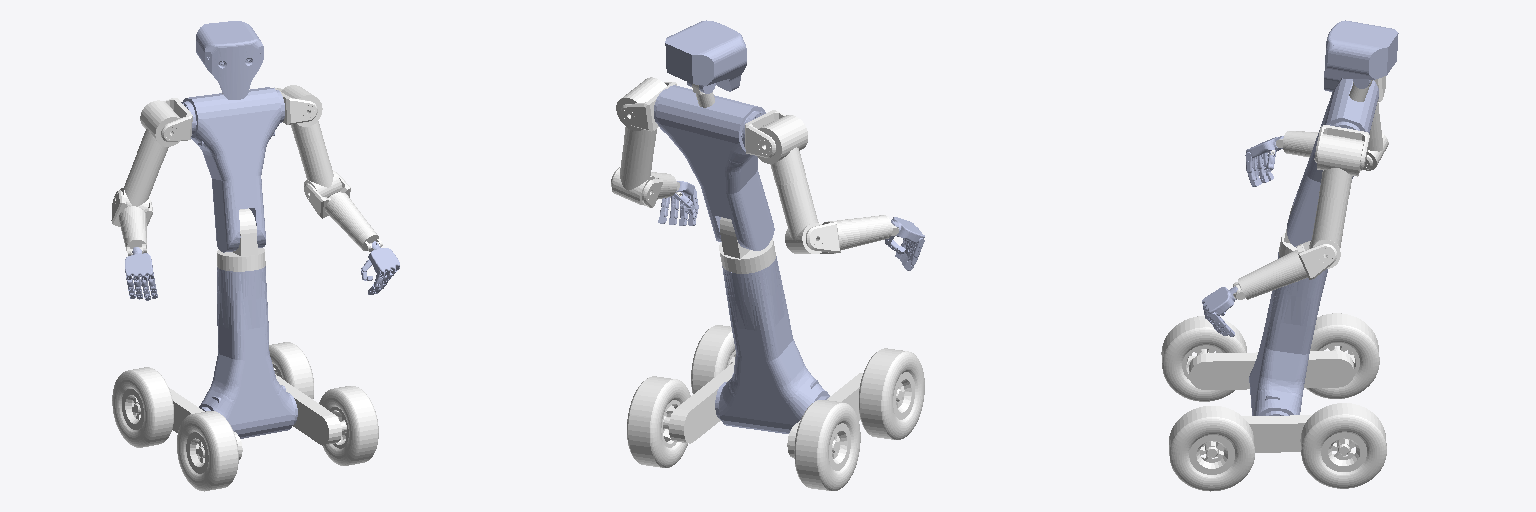
--- Facts derived from the render (not from the file) ---
3 views of the same robot in one strip: view 1: azimuth 30°, elevation 25°; view 2: azimuth 150°, elevation 25°; view 3: azimuth 270°, elevation 25° (orthographic).
Robot: rucobot — 61 links, 60 joints (60 continuous); root link base_link; default pose: every joint at zero.
Visible links, largest first — view 1: base_link, Tors, shassi_r, shassi_l, golova, Sharnir_pojasa, plecho_r, predplechie_l, lokot_l, lokot_r, plecho_l, predplechie_r (+5 smaller); view 2: base_link, shassi_r, Tors, shassi_l, golova, plecho_r, lokot_r, lokot_l, Sharnir_pojasa, predplechie_r, plecho_l, sharnir_plecha_r (+2 smaller); view 3: shassi_l, shassi_r, base_link, golova, Tors, plecho_l, predplechie_l, lokot_l, sharnir_loktya_l, predplechie_r, sharnir_plecha_l, lokot_r (+1 smaller).
Boxes of the visible links, bbox=[...] form: base_link: bbox=[199, 266, 297, 438]; Tors: bbox=[181, 87, 284, 252]; shassi_r: bbox=[112, 367, 242, 491]; shassi_l: bbox=[269, 342, 378, 465]; golova: bbox=[196, 21, 263, 99]; Sharnir_pojasa: bbox=[217, 208, 265, 271]; plecho_r: bbox=[137, 100, 180, 163]; predplechie_l: bbox=[325, 193, 382, 250]; lokot_l: bbox=[297, 138, 342, 197]; lokot_r: bbox=[120, 154, 161, 209]; plecho_l: bbox=[281, 85, 322, 145]; predplechie_r: bbox=[119, 206, 146, 255]; base_link: bbox=[715, 256, 829, 433]; shassi_r: bbox=[787, 348, 924, 490]; Tors: bbox=[654, 85, 774, 250]; shassi_l: bbox=[627, 325, 735, 467]; golova: bbox=[665, 20, 746, 93]; plecho_r: bbox=[757, 115, 807, 184]; lokot_r: bbox=[776, 178, 821, 253]; lokot_l: bbox=[612, 138, 654, 204]; Sharnir_pojasa: bbox=[719, 217, 775, 273]; predplechie_r: bbox=[822, 215, 898, 250]; plecho_l: bbox=[616, 77, 666, 147]; sharnir_plecha_r: bbox=[745, 110, 785, 157]; shassi_l: bbox=[1169, 403, 1386, 491]; shassi_r: bbox=[1161, 313, 1379, 401]; base_link: bbox=[1249, 252, 1327, 415]; golova: bbox=[1324, 20, 1398, 91]; Tors: bbox=[1287, 78, 1378, 247]; plecho_l: bbox=[1317, 134, 1364, 198]; predplechie_l: bbox=[1233, 250, 1307, 299]; lokot_l: bbox=[1309, 193, 1348, 268]; sharnir_loktya_l: bbox=[1296, 241, 1336, 279]; predplechie_r: bbox=[1276, 131, 1318, 157]; sharnir_plecha_l: bbox=[1314, 125, 1369, 169]; lokot_r: bbox=[1366, 110, 1388, 170].
Size in the robot's own frame: 0.9582 by 0.719 by 1.43 metres.
61 mesh visuals loaded from 61 distinct referenced files (61 binary STL).

The robot description file, URDF, robot "rucobot":
<robot
  name="rucobot">
  <link
    name="base_link">
    <inertial>
      <origin
        xyz="0.00896240562713546 0.143186728221046 -0.0666263036048991"
        rpy="0 0 0" />
      <mass
        value="110.693325289998" />
      <inertia
        ixx="3.27626628742202"
        ixy="-0.181122746313554"
        ixz="0.0522061358243045"
        iyy="0.80236382109001"
        iyz="0.514583322796761"
        izz="3.55269170853019" />
    </inertial>
    <visual>
      <origin
        xyz="0 0 0"
        rpy="0 0 0" />
      <geometry>
        <mesh
          filename="package://rucobot/meshes/base_link.STL" />
      </geometry>
      <material
        name="">
        <color
          rgba="0.792156862745098 0.819607843137255 0.933333333333333 1" />
      </material>
    </visual>
    <collision>
      <origin
        xyz="0 0 0"
        rpy="0 0 0" />
      <geometry>
        <mesh
          filename="package://rucobot/meshes/base_link.STL" />
      </geometry>
    </collision>
  </link>
  <link
    name="Sharnir_pojasa">
    <inertial>
      <origin
        xyz="-2.25514051876985E-17 0.0752881183526605 -4.16333634234434E-17"
        rpy="0 0 0" />
      <mass
        value="2.89543871345231" />
      <inertia
        ixx="0.0130020130921996"
        ixy="2.80537312130624E-18"
        ixz="-1.30104260698261E-18"
        iyy="0.00713817950157839"
        iyz="2.49366499671666E-18"
        izz="0.0112358733148645" />
    </inertial>
    <visual>
      <origin
        xyz="0 0 0"
        rpy="0 0 0" />
      <geometry>
        <mesh
          filename="package://rucobot/meshes/Sharnir_pojasa.STL" />
      </geometry>
      <material
        name="">
        <color
          rgba="1 1 1 1" />
      </material>
    </visual>
    <collision>
      <origin
        xyz="0 0 0"
        rpy="0 0 0" />
      <geometry>
        <mesh
          filename="package://rucobot/meshes/Sharnir_pojasa.STL" />
      </geometry>
    </collision>
  </link>
  <joint
    name="j_Sharnir_pojasa"
    type="continuous">
    <origin
      xyz="0.0324436639883371 0.12429534174066 0.460919751635306"
      rpy="1.38421395302276 0.0519209406376816 -0.118124034255159" />
    <parent
      link="base_link" />
    <child
      link="Sharnir_pojasa" />
    <axis
      xyz="0 1 0" />
  </joint>
  <link
    name="Tors">
    <inertial>
      <origin
        xyz="7.47907391487196E-07 0.255052816813798 -3.41754965509367E-05"
        rpy="0 0 0" />
      <mass
        value="91.0754857328118" />
      <inertia
        ixx="1.7390726190761"
        ixy="3.01102176554317E-06"
        ixz="-9.22264127997674E-07"
        iyy="0.642500384537508"
        iyz="0.000215463623916334"
        izz="2.11023263578958" />
    </inertial>
    <visual>
      <origin
        xyz="0 0 0"
        rpy="0 0 0" />
      <geometry>
        <mesh
          filename="package://rucobot/meshes/Tors.STL" />
      </geometry>
      <material
        name="">
        <color
          rgba="0.792156862745098 0.819607843137255 0.933333333333333 1" />
      </material>
    </visual>
    <collision>
      <origin
        xyz="0 0 0"
        rpy="0 0 0" />
      <geometry>
        <mesh
          filename="package://rucobot/meshes/Tors.STL" />
      </geometry>
    </collision>
  </link>
  <joint
    name="j_Tors"
    type="continuous">
    <origin
      xyz="0 0.128188778698563 0"
      rpy="-0.128015279653219 1.62370117351429E-15 1.72431513512095E-15" />
    <parent
      link="Sharnir_pojasa" />
    <child
      link="Tors" />
    <axis
      xyz="1 0 0" />
  </joint>
  <link
    name="sharnir_plecha_r">
    <inertial>
      <origin
        xyz="-5.55111512312578E-17 -0.000417919871589234 0.0464830429041732"
        rpy="0 0 0" />
      <mass
        value="0.483647848803237" />
      <inertia
        ixx="0.000689027325543671"
        ixy="3.14079816841895E-18"
        ixz="-8.40256683676266E-19"
        iyy="0.00196973024679347"
        iyz="5.56154264020343E-05"
        izz="0.00183169819086114" />
    </inertial>
    <visual>
      <origin
        xyz="0 0 0"
        rpy="0 0 0" />
      <geometry>
        <mesh
          filename="package://rucobot/meshes/sharnir_plecha_r.STL" />
      </geometry>
      <material
        name="">
        <color
          rgba="1 1 1 1" />
      </material>
    </visual>
    <collision>
      <origin
        xyz="0 0 0"
        rpy="0 0 0" />
      <geometry>
        <mesh
          filename="package://rucobot/meshes/sharnir_plecha_r.STL" />
      </geometry>
    </collision>
  </link>
  <joint
    name="j_sharnir_plecha_r"
    type="continuous">
    <origin
      xyz="-0.152559658277971 0.390000000000005 0"
      rpy="1.5707963267949 -1.20891824044153 -1.5707963267949" />
    <parent
      link="Tors" />
    <child
      link="sharnir_plecha_r" />
    <axis
      xyz="0 0 -1" />
  </joint>
  <link
    name="plecho_r">
    <inertial>
      <origin
        xyz="-3.57087203139983E-08 -0.0251544798237647 5.104894745811E-08"
        rpy="0 0 0" />
      <mass
        value="2.34279641012503" />
      <inertia
        ixx="0.0078816597365252"
        ixy="-2.32104730132411E-09"
        ixz="-5.87356074909819E-10"
        iyy="0.00430171909143169"
        iyz="5.96776679538235E-09"
        izz="0.00692854772981026" />
    </inertial>
    <visual>
      <origin
        xyz="0 0 0"
        rpy="0 0 0" />
      <geometry>
        <mesh
          filename="package://rucobot/meshes/plecho_r.STL" />
      </geometry>
      <material
        name="">
        <color
          rgba="1 1 1 1" />
      </material>
    </visual>
    <collision>
      <origin
        xyz="0 0 0"
        rpy="0 0 0" />
      <geometry>
        <mesh
          filename="package://rucobot/meshes/plecho_r.STL" />
      </geometry>
    </collision>
  </link>
  <joint
    name="j_plecho_r"
    type="continuous">
    <origin
      xyz="0 -0.0079999999999999 0.0934403417220299"
      rpy="-1.57079632679491 1.25964358109242 -1.57079632679491" />
    <parent
      link="sharnir_plecha_r" />
    <child
      link="plecho_r" />
    <axis
      xyz="0 0 1" />
  </joint>
  <link
    name="lokot_r">
    <inertial>
      <origin
        xyz="-6.79035919437521E-08 -0.156514593189435 -1.94538884668027E-07"
        rpy="0 0 0" />
      <mass
        value="2.01481430087266" />
      <inertia
        ixx="0.00923322974059326"
        ixy="1.02896168592846E-08"
        ixz="7.84993727854545E-09"
        iyy="0.00229149406048785"
        iyz="2.4371602142312E-08"
        izz="0.009136443859641" />
    </inertial>
    <visual>
      <origin
        xyz="0 0 0"
        rpy="0 0 0" />
      <geometry>
        <mesh
          filename="package://rucobot/meshes/lokot_r.STL" />
      </geometry>
      <material
        name="">
        <color
          rgba="1 1 1 1" />
      </material>
    </visual>
    <collision>
      <origin
        xyz="0 0 0"
        rpy="0 0 0" />
      <geometry>
        <mesh
          filename="package://rucobot/meshes/lokot_r.STL" />
      </geometry>
    </collision>
  </link>
  <joint
    name="j_lokot_r"
    type="continuous">
    <origin
      xyz="0 -0.082274948812524 0"
      rpy="-4.72451924255783E-17 1.27265955777084 4.72451924255783E-17" />
    <parent
      link="plecho_r" />
    <child
      link="lokot_r" />
    <axis
      xyz="0 1 0" />
  </joint>
  <link
    name="sharnir_loktya_r">
    <inertial>
      <origin
        xyz="0.0012000000000002 0.00752035460033429 -0.0437637690424815"
        rpy="0 0 0" />
      <mass
        value="0.413649568915566" />
      <inertia
        ixx="0.000609935633827668"
        ixy="9.3173624197973E-19"
        ixz="3.52365706057789E-19"
        iyy="0.0012155913352192"
        iyz="5.49949777303547E-05"
        izz="0.00106159012481743" />
    </inertial>
    <visual>
      <origin
        xyz="0 0 0"
        rpy="0 0 0" />
      <geometry>
        <mesh
          filename="package://rucobot/meshes/sharnir_loktya_r.STL" />
      </geometry>
      <material
        name="">
        <color
          rgba="1 1 1 1" />
      </material>
    </visual>
    <collision>
      <origin
        xyz="0 0 0"
        rpy="0 0 0" />
      <geometry>
        <mesh
          filename="package://rucobot/meshes/sharnir_loktya_r.STL" />
      </geometry>
    </collision>
  </link>
  <joint
    name="j_sharnir_loktya_r"
    type="continuous">
    <origin
      xyz="0 -0.219725051187477 0"
      rpy="2.11707742464578 -1.57079630572147 1.18530245986557" />
    <parent
      link="lokot_r" />
    <child
      link="sharnir_loktya_r" />
    <axis
      xyz="1 0 0" />
  </joint>
  <link
    name="predplechie_r">
    <inertial>
      <origin
        xyz="-1.7798515558054E-06 -3.95550856513438E-08 0.0351725822698449"
        rpy="0 0 0" />
      <mass
        value="1.44692785130132" />
      <inertia
        ixx="0.00554237235769671"
        ixy="2.92450993731255E-09"
        ixz="3.43553871257052E-07"
        iyy="0.00555465523324006"
        iyz="-6.73221239377443E-09"
        izz="0.00121510080819449" />
    </inertial>
    <visual>
      <origin
        xyz="0 0 0"
        rpy="0 0 0" />
      <geometry>
        <mesh
          filename="package://rucobot/meshes/predplechie_r.STL" />
      </geometry>
      <material
        name="">
        <color
          rgba="1 1 1 1" />
      </material>
    </visual>
    <collision>
      <origin
        xyz="0 0 0"
        rpy="0 0 0" />
      <geometry>
        <mesh
          filename="package://rucobot/meshes/predplechie_r.STL" />
      </geometry>
    </collision>
  </link>
  <joint
    name="j_predplechie_r"
    type="continuous">
    <origin
      xyz="0.00119999999999998 0.00799999999999995 -0.133508449810852"
      rpy="3.14159265358979 -1.11022302462516E-15 -0.53391242034869" />
    <parent
      link="sharnir_loktya_r" />
    <child
      link="predplechie_r" />
    <axis
      xyz="0 0 1" />
  </joint>
  <link
    name="zapastie_r">
    <inertial>
      <origin
        xyz="-1.04664132916099E-09 -0.00589607999069064 -1.04964131830698E-09"
        rpy="0 0 0" />
      <mass
        value="0.0217508242970435" />
      <inertia
        ixx="4.06194784093122E-06"
        ixy="-2.45268871910205E-16"
        ixz="8.50053638797777E-14"
        iyy="3.36484861459115E-06"
        iyz="-3.8697037155607E-14"
        izz="2.22565604195955E-06" />
    </inertial>
    <visual>
      <origin
        xyz="0 0 0"
        rpy="0 0 0" />
      <geometry>
        <mesh
          filename="package://rucobot/meshes/zapastie_r.STL" />
      </geometry>
      <material
        name="">
        <color
          rgba="1 1 1 1" />
      </material>
    </visual>
    <collision>
      <origin
        xyz="0 0 0"
        rpy="0 0 0" />
      <geometry>
        <mesh
          filename="package://rucobot/meshes/zapastie_r.STL" />
      </geometry>
    </collision>
  </link>
  <joint
    name="j_zapastie_r"
    type="continuous">
    <origin
      xyz="0 0 0.156491550189148"
      rpy="-1.57079632679489 0.440819351327512 -1.57079632679489" />
    <parent
      link="predplechie_r" />
    <child
      link="zapastie_r" />
    <axis
      xyz="0 0 1" />
  </joint>
  <link
    name="ladon_r">
    <inertial>
      <origin
        xyz="-6.47388532412085E-05 0.0148875426551344 -0.0600543658421324"
        rpy="0 0 0" />
      <mass
        value="1.08106591463832" />
      <inertia
        ixx="0.000891133654287213"
        ixy="6.32719482747059E-06"
        ixz="-6.26660419026385E-05"
        iyy="0.00150683429989842"
        iyz="6.06421193468183E-05"
        izz="0.000901985440312453" />
    </inertial>
    <visual>
      <origin
        xyz="0 0 0"
        rpy="0 0 0" />
      <geometry>
        <mesh
          filename="package://rucobot/meshes/ladon_r.STL" />
      </geometry>
      <material
        name="">
        <color
          rgba="0.792156862745098 0.819607843137255 0.933333333333333 1" />
      </material>
    </visual>
    <collision>
      <origin
        xyz="0 0 0"
        rpy="0 0 0" />
      <geometry>
        <mesh
          filename="package://rucobot/meshes/ladon_r.STL" />
      </geometry>
    </collision>
  </link>
  <joint
    name="j_ladon_r"
    type="continuous">
    <origin
      xyz="0.01 0 0"
      rpy="9.15512301598293E-15 1.54957284180814 1.57079632679491" />
    <parent
      link="zapastie_r" />
    <child
      link="ladon_r" />
    <axis
      xyz="0 1 0" />
  </joint>
  <link
    name="bolshoj_osnova_r">
    <inertial>
      <origin
        xyz="4.19799951745237E-10 -0.00335807108592345 -0.0130909322427476"
        rpy="0 0 0" />
      <mass
        value="0.00474130036735066" />
      <inertia
        ixx="3.37852137237324E-07"
        ixy="-4.86828927839104E-14"
        ixz="-7.04558877625359E-15"
        iyy="3.1589290051608E-07"
        iyz="-2.3864698266401E-10"
        izz="1.60033928668896E-07" />
    </inertial>
    <visual>
      <origin
        xyz="0 0 0"
        rpy="0 0 0" />
      <geometry>
        <mesh
          filename="package://rucobot/meshes/bolshoj_osnova_r.STL" />
      </geometry>
      <material
        name="">
        <color
          rgba="1 1 1 1" />
      </material>
    </visual>
    <collision>
      <origin
        xyz="0 0 0"
        rpy="0 0 0" />
      <geometry>
        <mesh
          filename="package://rucobot/meshes/bolshoj_osnova_r.STL" />
      </geometry>
    </collision>
  </link>
  <joint
    name="j_bolshoj_osnova_r"
    type="continuous">
    <origin
      xyz="-0.0286581524376238 -0.0091182634575131 -0.034153456124651"
      rpy="-0.538307860312293 0.724748995496491 2.40837849957916" />
    <parent
      link="ladon_r" />
    <child
      link="bolshoj_osnova_r" />
    <axis
      xyz="0 0 1" />
  </joint>
  <link
    name="proximal_falang_bolshoj_r">
    <inertial>
      <origin
        xyz="-5.23938518520728E-06 -5.2210677090922E-05 -0.0239061195962711"
        rpy="0 0 0" />
      <mass
        value="0.0127054069053591" />
      <inertia
        ixx="2.86639320583508E-06"
        ixy="6.97115154240719E-10"
        ixz="2.23121531964007E-09"
        iyy="3.05917929449315E-06"
        iyz="-1.83328751292656E-08"
        izz="9.46060157823877E-07" />
    </inertial>
    <visual>
      <origin
        xyz="0 0 0"
        rpy="0 0 0" />
      <geometry>
        <mesh
          filename="package://rucobot/meshes/proximal_falang_bolshoj_r.STL" />
      </geometry>
      <material
        name="">
        <color
          rgba="0.792156862745098 0.819607843137255 0.933333333333333 1" />
      </material>
    </visual>
    <collision>
      <origin
        xyz="0 0 0"
        rpy="0 0 0" />
      <geometry>
        <mesh
          filename="package://rucobot/meshes/proximal_falang_bolshoj_r.STL" />
      </geometry>
    </collision>
  </link>
  <joint
    name="j_proximal_falang_bolshoj_r"
    type="continuous">
    <origin
      xyz="0 -0.00450030689800585 -0.0119955807398704"
      rpy="-1.53541465104474 3.21964677141295E-15 -3.14159265358979" />
    <parent
      link="bolshoj_osnova_r" />
    <child
      link="proximal_falang_bolshoj_r" />
    <axis
      xyz="-1 0 0" />
  </joint>
  <link
    name="medial_falanga_bolshoy_r">
    <inertial>
      <origin
        xyz="6.55384677013954E-06 0.000130045033781889 -0.0119984514335008"
        rpy="0 0 0" />
      <mass
        value="0.00791977216682233" />
      <inertia
        ixx="1.05619347410482E-06"
        ixy="-4.46120500449778E-10"
        ixz="3.65251666165924E-10"
        iyy="1.11379864890593E-06"
        iyz="1.76450959601349E-09"
        izz="4.23085079342307E-07" />
    </inertial>
    <visual>
      <origin
        xyz="0 0 0"
        rpy="0 0 0" />
      <geometry>
        <mesh
          filename="package://rucobot/meshes/medial_falanga_bolshoy_r.STL" />
      </geometry>
      <material
        name="">
        <color
          rgba="0.792156862745098 0.819607843137255 0.933333333333333 1" />
      </material>
    </visual>
    <collision>
      <origin
        xyz="0 0 0"
        rpy="0 0 0" />
      <geometry>
        <mesh
          filename="package://rucobot/meshes/medial_falanga_bolshoy_r.STL" />
      </geometry>
    </collision>
  </link>
  <joint
    name="j_medial_falanga_bolshoy_r"
    type="continuous">
    <origin
      xyz="0 0 -0.046"
      rpy="1.36758612535518 2.77555756156289E-15 -3.77475828372553E-15" />
    <parent
      link="proximal_falang_bolshoj_r" />
    <child
      link="medial_falanga_bolshoy_r" />
    <axis
      xyz="-1 0 0" />
  </joint>
  <link
    name="distal_falang_bolshoy_r">
    <inertial>
      <origin
        xyz="3.92154068756811E-05 0.000417281517116508 -0.0118731915217587"
        rpy="0 0 0" />
      <mass
        value="0.00792541591651875" />
      <inertia
        ixx="8.03956797183496E-07"
        ixy="7.6829507535464E-10"
        ixz="-4.5580873059853E-10"
        iyy="8.45143255076546E-07"
        iyz="2.03832775785514E-08"
        izz="3.60348680190019E-07" />
    </inertial>
    <visual>
      <origin
        xyz="0 0 0"
        rpy="0 0 0" />
      <geometry>
        <mesh
          filename="package://rucobot/meshes/distal_falang_bolshoy_r.STL" />
      </geometry>
      <material
        name="">
        <color
          rgba="0.792156862745098 0.819607843137255 0.933333333333333 1" />
      </material>
    </visual>
    <collision>
      <origin
        xyz="0 0 0"
        rpy="0 0 0" />
      <geometry>
        <mesh
          filename="package://rucobot/meshes/distal_falang_bolshoy_r.STL" />
      </geometry>
    </collision>
  </link>
  <joint
    name="j_distal_falang_bolshoy_r"
    type="continuous">
    <origin
      xyz="0 0 -0.028"
      rpy="0.100089852496194 1.38777878078145E-16 4.71844785465692E-16" />
    <parent
      link="medial_falanga_bolshoy_r" />
    <child
      link="distal_falang_bolshoy_r" />
    <axis
      xyz="-1 0 0" />
  </joint>
  <link
    name="sharnir_palec_ukaz_r">
    <inertial>
      <origin
        xyz="-0.000193153382844535 0.0128827511145122 0.000976445564656314"
        rpy="0 0 0" />
      <mass
        value="0.00247996543491179" />
      <inertia
        ixx="1.41865551830605E-07"
        ixy="-9.26852843332831E-10"
        ixz="3.83359475079865E-10"
        iyy="9.2261616247985E-08"
        iyz="2.5931712623689E-09"
        izz="1.17684729475178E-07" />
    </inertial>
    <visual>
      <origin
        xyz="0 0 0"
        rpy="0 0 0" />
      <geometry>
        <mesh
          filename="package://rucobot/meshes/sharnir_palec_ukaz_r.STL" />
      </geometry>
      <material
        name="">
        <color
          rgba="0.792156862745098 0.819607843137255 0.933333333333333 1" />
      </material>
    </visual>
    <collision>
      <origin
        xyz="0 0 0"
        rpy="0 0 0" />
      <geometry>
        <mesh
          filename="package://rucobot/meshes/sharnir_palec_ukaz_r.STL" />
      </geometry>
    </collision>
  </link>
  <joint
    name="j_sharnir_palec_ukaz_r"
    type="continuous">
    <origin
      xyz="-0.0344897812276514 0 -0.108498873951481"
      rpy="1.05474492964217E-15 -0.00791715577020176 -6.38398246888684E-16" />
    <parent
      link="ladon_r" />
    <child
      link="sharnir_palec_ukaz_r" />
    <axis
      xyz="0 1 0" />
  </joint>
  <link
    name="proximal_falanga_ukaz_r">
    <inertial>
      <origin
        xyz="-5.26035150005821E-06 -0.000891513361063051 -0.0220907411071198"
        rpy="0 0 0" />
      <mass
        value="0.0127053504794185" />
      <inertia
        ixx="2.86639045662399E-06"
        ixy="6.97094460055562E-10"
        ixz="2.23310362197986E-09"
        iyy="3.05917464287808E-06"
        iyz="-1.83344291554736E-08"
        izz="9.4605504612959E-07" />
    </inertial>
    <visual>
      <origin
        xyz="0 0 0"
        rpy="0 0 0" />
      <geometry>
        <mesh
          filename="package://rucobot/meshes/proximal_falanga_ukaz_r.STL" />
      </geometry>
      <material
        name="">
        <color
          rgba="0.792156862745098 0.819607843137255 0.933333333333333 1" />
      </material>
    </visual>
    <collision>
      <origin
        xyz="0 0 0"
        rpy="0 0 0" />
      <geometry>
        <mesh
          filename="package://rucobot/meshes/proximal_falanga_ukaz_r.STL" />
      </geometry>
    </collision>
  </link>
  <joint
    name="j_proximal_falanga_ukaz_r"
    type="continuous">
    <origin
      xyz="0 0.0100000000000001 0"
      rpy="1.1377297013671 -2.1094237467878E-15 -3.14159265358979" />
    <parent
      link="sharnir_palec_ukaz_r" />
    <child
      link="proximal_falanga_ukaz_r" />
    <axis
      xyz="1 0 0" />
  </joint>
  <link
    name="medial_falanga_ukaz_r">
    <inertial>
      <origin
        xyz="6.55522680167997E-06 0.000130046406959381 -0.0119984527242808"
        rpy="0 0 0" />
      <mass
        value="0.00791977462844531" />
      <inertia
        ixx="1.05619325935074E-06"
        ixy="-4.45970137735974E-10"
        ixz="3.65325276690034E-10"
        iyy="1.11379946854126E-06"
        iyz="1.76458465277697E-09"
        izz="4.23085507822775E-07" />
    </inertial>
    <visual>
      <origin
        xyz="0 0 0"
        rpy="0 0 0" />
      <geometry>
        <mesh
          filename="package://rucobot/meshes/medial_falanga_ukaz_r.STL" />
      </geometry>
      <material
        name="">
        <color
          rgba="0.792156862745098 0.819607843137255 0.933333333333333 1" />
      </material>
    </visual>
    <collision>
      <origin
        xyz="0 0 0"
        rpy="0 0 0" />
      <geometry>
        <mesh
          filename="package://rucobot/meshes/medial_falanga_ukaz_r.STL" />
      </geometry>
    </collision>
  </link>
  <joint
    name="j_medial_falanga_ukaz_r"
    type="continuous">
    <origin
      xyz="0 -0.000839312590752428 -0.0441846338179298"
      rpy="0.279340232513703 -1.07899800205757E-15 -2.99760216648792E-15" />
    <parent
      link="proximal_falanga_ukaz_r" />
    <child
      link="medial_falanga_ukaz_r" />
    <axis
      xyz="1 0 0" />
  </joint>
  <link
    name="distal_falanga_ukaz_r">
    <inertial>
      <origin
        xyz="3.92153936591699E-05 0.000417275867378497 -0.0118731930583748"
        rpy="0 0 0" />
      <mass
        value="0.0079254188732141" />
      <inertia
        ixx="8.03957000782904E-07"
        ixy="7.68330153255766E-10"
        ixz="-4.55853260357411E-10"
        iyy="8.45142929513572E-07"
        iyz="2.03828711549808E-08"
        izz="3.60349224085866E-07" />
    </inertial>
    <visual>
      <origin
        xyz="0 0 0"
        rpy="0 0 0" />
      <geometry>
        <mesh
          filename="package://rucobot/meshes/distal_falanga_ukaz_r.STL" />
      </geometry>
      <material
        name="">
        <color
          rgba="0.792156862745098 0.819607843137255 0.933333333333333 1" />
      </material>
    </visual>
    <collision>
      <origin
        xyz="0 0 0"
        rpy="0 0 0" />
      <geometry>
        <mesh
          filename="package://rucobot/meshes/distal_falanga_ukaz_r.STL" />
      </geometry>
    </collision>
  </link>
  <joint
    name="j_distal_falanga_ukaz_r"
    type="continuous">
    <origin
      xyz="0 0 -0.028"
      rpy="0.119960369182583 1.80411241501588E-15 3.94129173741931E-15" />
    <parent
      link="medial_falanga_ukaz_r" />
    <child
      link="distal_falanga_ukaz_r" />
    <axis
      xyz="1 0 0" />
  </joint>
  <link
    name="sharnir_palec_sred_r">
    <inertial>
      <origin
        xyz="-0.000193153369787091 0.012882751170144 0.000976445576276658"
        rpy="0 0 0" />
      <mass
        value="0.00247996542161917" />
      <inertia
        ixx="1.41865551095611E-07"
        ixy="-9.26852312626341E-10"
        ixz="3.8335967342116E-10"
        iyy="9.22616164532978E-08"
        iyz="2.59317102663361E-09"
        izz="1.1768472838733E-07" />
    </inertial>
    <visual>
      <origin
        xyz="0 0 0"
        rpy="0 0 0" />
      <geometry>
        <mesh
          filename="package://rucobot/meshes/sharnir_palec_sred_r.STL" />
      </geometry>
      <material
        name="">
        <color
          rgba="0.792156862745098 0.819607843137255 0.933333333333333 1" />
      </material>
    </visual>
    <collision>
      <origin
        xyz="0 0 0"
        rpy="0 0 0" />
      <geometry>
        <mesh
          filename="package://rucobot/meshes/sharnir_palec_sred_r.STL" />
      </geometry>
    </collision>
  </link>
  <joint
    name="j_sharnir_palec_sred_r"
    type="continuous">
    <origin
      xyz="-0.0104897812276514 0 -0.108498873951481"
      rpy="8.88179236949472E-16 -0.00135656939203248 -5.5511202309342E-16" />
    <parent
      link="ladon_r" />
    <child
      link="sharnir_palec_sred_r" />
    <axis
      xyz="0 1 0" />
  </joint>
  <link
    name="proximal_falang_sred_r">
    <inertial>
      <origin
        xyz="-5.24538932972218E-06 -0.000764007871692715 -0.0220370289612765"
        rpy="0 0 0" />
      <mass
        value="0.0127054003585438" />
      <inertia
        ixx="2.86639897597621E-06"
        ixy="6.97336798050115E-10"
        ixz="2.23142471997764E-09"
        iyy="3.0591818263558E-06"
        iyz="-1.83365026344937E-08"
        izz="9.46063878677674E-07" />
    </inertial>
    <visual>
      <origin
        xyz="0 0 0"
        rpy="0 0 0" />
      <geometry>
        <mesh
          filename="package://rucobot/meshes/proximal_falang_sred_r.STL" />
      </geometry>
      <material
        name="">
        <color
          rgba="0.792156862745098 0.819607843137255 0.933333333333333 1" />
      </material>
    </visual>
    <collision>
      <origin
        xyz="0 0 0"
        rpy="0 0 0" />
      <geometry>
        <mesh
          filename="package://rucobot/meshes/proximal_falang_sred_r.STL" />
      </geometry>
    </collision>
  </link>
  <joint
    name="j_proximal_falang_sred_r"
    type="continuous">
    <origin
      xyz="0 0.0099999999999999 0"
      rpy="1.20690791788773 4.49640324973188E-15 -3.14159265358979" />
    <parent
      link="sharnir_palec_sred_r" />
    <child
      link="proximal_falang_sred_r" />
    <axis
      xyz="1 0 0" />
  </joint>
  <link
    name="medial_falanga_sred_r">
    <inertial>
      <origin
        xyz="6.55357717266325E-06 0.000130049654450709 -0.0119984510226461"
        rpy="0 0 0" />
      <mass
        value="0.00791977234201001" />
      <inertia
        ixx="1.05619291900999E-06"
        ixy="-4.45982191184273E-10"
        ixz="3.65250779577625E-10"
        iyy="1.11379932658631E-06"
        iyz="1.7647397736726E-09"
        izz="4.23085271634541E-07" />
    </inertial>
    <visual>
      <origin
        xyz="0 0 0"
        rpy="0 0 0" />
      <geometry>
        <mesh
          filename="package://rucobot/meshes/medial_falanga_sred_r.STL" />
      </geometry>
      <material
        name="">
        <color
          rgba="0.792156862745098 0.819607843137255 0.933333333333333 1" />
      </material>
    </visual>
    <collision>
      <origin
        xyz="0 0 0"
        rpy="0 0 0" />
      <geometry>
        <mesh
          filename="package://rucobot/meshes/medial_falanga_sred_r.STL" />
      </geometry>
    </collision>
  </link>
  <joint
    name="j_medial_falanga_sred_r"
    type="continuous">
    <origin
      xyz="0 -0.000711821421017458 -0.0441309600687572"
      rpy="-0.00268212479129566 -5.55111512312578E-17 -5.55111512312578E-16" />
    <parent
      link="proximal_falang_sred_r" />
    <child
      link="medial_falanga_sred_r" />
    <axis
      xyz="1 0 0" />
  </joint>
  <link
    name="distal_falanga_sred_r">
    <inertial>
      <origin
        xyz="3.92154219823748E-05 0.000417275965494429 -0.0118731930301309"
        rpy="0 0 0" />
      <mass
        value="0.00792541888961152" />
      <inertia
        ixx="8.03956999693197E-07"
        ixy="7.68331841671289E-10"
        ixz="-4.55853279067085E-10"
        iyy="8.45142932417291E-07"
        iyz="2.0382887369943E-08"
        izz="3.60349222159747E-07" />
    </inertial>
    <visual>
      <origin
        xyz="0 0 0"
        rpy="0 0 0" />
      <geometry>
        <mesh
          filename="package://rucobot/meshes/distal_falanga_sred_r.STL" />
      </geometry>
      <material
        name="">
        <color
          rgba="0.792156862745098 0.819607843137255 0.933333333333333 1" />
      </material>
    </visual>
    <collision>
      <origin
        xyz="0 0 0"
        rpy="0 0 0" />
      <geometry>
        <mesh
          filename="package://rucobot/meshes/distal_falanga_sred_r.STL" />
      </geometry>
    </collision>
  </link>
  <joint
    name="j_distal_falanga_sred_r"
    type="continuous">
    <origin
      xyz="0 0 -0.0279999999999949"
      rpy="0.332359663935568 -1.83880688453542E-15 5.49560397189452E-15" />
    <parent
      link="medial_falanga_sred_r" />
    <child
      link="distal_falanga_sred_r" />
    <axis
      xyz="1 0 0" />
  </joint>
  <link
    name="sharnir_palec_bezim_r">
    <inertial>
      <origin
        xyz="-0.00019315354677002 0.0128827504574321 0.000976445416346006"
        rpy="0 0 0" />
      <mass
        value="0.00247996553730472" />
      <inertia
        ixx="1.41865558198729E-07"
        ixy="-9.2685973873461E-10"
        ixz="3.83355961553702E-10"
        iyy="9.22616150177656E-08"
        iyz="2.59317386453103E-09"
        izz="1.17684739297148E-07" />
    </inertial>
    <visual>
      <origin
        xyz="0 0 0"
        rpy="0 0 0" />
      <geometry>
        <mesh
          filename="package://rucobot/meshes/sharnir_palec_bezim_r.STL" />
      </geometry>
      <material
        name="">
        <color
          rgba="0.792156862745098 0.819607843137255 0.933333333333333 1" />
      </material>
    </visual>
    <collision>
      <origin
        xyz="0 0 0"
        rpy="0 0 0" />
      <geometry>
        <mesh
          filename="package://rucobot/meshes/sharnir_palec_bezim_r.STL" />
      </geometry>
    </collision>
  </link>
  <joint
    name="j_sharnir_palec_bezim_r"
    type="continuous">
    <origin
      xyz="0.0135102187723486 0 -0.104498873951481"
      rpy="1.05894859269979E-15 -0.0894823348823763 -7.24543773952485E-16" />
    <parent
      link="ladon_r" />
    <child
      link="sharnir_palec_bezim_r" />
    <axis
      xyz="0 1 0" />
  </joint>
  <link
    name="proximal_falang_bezim_r">
    <inertial>
      <origin
        xyz="0.00166311725820534 0.00355963129049373 -0.0228313156496764"
        rpy="0 0 0" />
      <mass
        value="0.0127054241473309" />
      <inertia
        ixx="2.86640390593706E-06"
        ixy="6.97189332527897E-10"
        ixz="2.23070105816459E-09"
        iyy="3.05918592633367E-06"
        iyz="-1.83386411402424E-08"
        izz="9.46069085922352E-07" />
    </inertial>
    <visual>
      <origin
        xyz="0 0 0"
        rpy="0 0 0" />
      <geometry>
        <mesh
          filename="package://rucobot/meshes/proximal_falang_bezim_r.STL" />
      </geometry>
      <material
        name="">
        <color
          rgba="0.792156862745098 0.819607843137255 0.933333333333333 1" />
      </material>
    </visual>
    <collision>
      <origin
        xyz="0 0 0"
        rpy="0 0 0" />
      <geometry>
        <mesh
          filename="package://rucobot/meshes/proximal_falang_bezim_r.STL" />
      </geometry>
    </collision>
  </link>
  <joint
    name="j_proximal_falang_bezim_r"
    type="continuous">
    <origin
      xyz="0.00166836028512618 0.0119999999999999 -0.00376831251385637"
      rpy="1.28157692527836 -1.88737914186277E-15 -3.14159265358979" />
    <parent
      link="sharnir_palec_bezim_r" />
    <child
      link="proximal_falang_bezim_r" />
    <axis
      xyz="1 0 0" />
  </joint>
  <link
    name="medial_falanga_bezim_r">
    <inertial>
      <origin
        xyz="0.000102111063495225 0.0102908853869345 -0.0120727140350391"
        rpy="0 0 0" />
      <mass
        value="0.00791977341401348" />
      <inertia
        ixx="1.05619310368821E-06"
        ixy="-4.45976307850043E-10"
        ixz="3.65319692951049E-10"
        iyy="1.11379935771335E-06"
        iyz="1.76465752129383E-09"
        izz="4.23085374075977E-07" />
    </inertial>
    <visual>
      <origin
        xyz="0 0 0"
        rpy="0 0 0" />
      <geometry>
        <mesh
          filename="package://rucobot/meshes/medial_falanga_bezim_r.STL" />
      </geometry>
      <material
        name="">
        <color
          rgba="0.792156862745098 0.819607843137255 0.933333333333333 1" />
      </material>
    </visual>
    <collision>
      <origin
        xyz="0 0 0"
        rpy="0 0 0" />
      <geometry>
        <mesh
          filename="package://rucobot/meshes/medial_falanga_bezim_r.STL" />
      </geometry>
    </collision>
  </link>
  <joint
    name="j_medial_falanga_bezim_r"
    type="continuous">
    <origin
      xyz="0.00157280438069707 -0.00653266306270058 -0.0455065995179739"
      rpy="0.0645518450447267 1.36002320516582E-15 2.66453525910038E-15" />
    <parent
      link="proximal_falang_bezim_r" />
    <child
      link="medial_falanga_bezim_r" />
    <axis
      xyz="1 0 0" />
  </joint>
  <link
    name="distal_falanga_bezim_r">
    <inertial>
      <origin
        xyz="-0.000214544039056352 0.00839367616821542 -0.0136113780165271"
        rpy="0 0 0" />
      <mass
        value="0.00792541904402243" />
      <inertia
        ixx="8.03957050274266E-07"
        ixy="7.68327178805074E-10"
        ixz="-4.55837912992235E-10"
        iyy="8.4514294355257E-07"
        iyz="2.03826593414619E-08"
        izz="3.60349288339167E-07" />
    </inertial>
    <visual>
      <origin
        xyz="0 0 0"
        rpy="0 0 0" />
      <geometry>
        <mesh
          filename="package://rucobot/meshes/distal_falanga_bezim_r.STL" />
      </geometry>
      <material
        name="">
        <color
          rgba="0.792156862745098 0.819607843137255 0.933333333333333 1" />
      </material>
    </visual>
    <collision>
      <origin
        xyz="0 0 0"
        rpy="0 0 0" />
      <geometry>
        <mesh
          filename="package://rucobot/meshes/distal_falanga_bezim_r.STL" />
      </geometry>
    </collision>
  </link>
  <joint
    name="j_distal_falanga_bezim_r"
    type="continuous">
    <origin
      xyz="0.00034931539619254 0.00199858256054334 -0.027926396948097"
      rpy="0.196447738566652 -5.55111512312578E-17 6.10622663543836E-16" />
    <parent
      link="medial_falanga_bezim_r" />
    <child
      link="distal_falanga_bezim_r" />
    <axis
      xyz="1 0 0" />
  </joint>
  <link
    name="sharnir_palec_miz_r">
    <inertial>
      <origin
        xyz="-0.000193153411590707 0.0128827509991224 0.000976445540574328"
        rpy="0 0 0" />
      <mass
        value="0.00247996546169134" />
      <inertia
        ixx="1.41865553323842E-07"
        ixy="-9.26853977290154E-10"
        ixz="3.83359031499236E-10"
        iyy="9.22616158357964E-08"
        iyz="2.59317174766756E-09"
        izz="1.17684731679556E-07" />
    </inertial>
    <visual>
      <origin
        xyz="0 0 0"
        rpy="0 0 0" />
      <geometry>
        <mesh
          filename="package://rucobot/meshes/sharnir_palec_miz_r.STL" />
      </geometry>
      <material
        name="">
        <color
          rgba="0.792156862745098 0.819607843137255 0.933333333333333 1" />
      </material>
    </visual>
    <collision>
      <origin
        xyz="0 0 0"
        rpy="0 0 0" />
      <geometry>
        <mesh
          filename="package://rucobot/meshes/sharnir_palec_miz_r.STL" />
      </geometry>
    </collision>
  </link>
  <joint
    name="j_sharnir_palec_miz_r"
    type="continuous">
    <origin
      xyz="0.0375102187723486 0 -0.0984988739514813"
      rpy="1.05495627598233E-15 -0.021525787722799 -7.21812188830018E-16" />
    <parent
      link="ladon_r" />
    <child
      link="sharnir_palec_miz_r" />
    <axis
      xyz="0 1 0" />
  </joint>
  <link
    name="proximal_falang_miz_r">
    <inertial>
      <origin
        xyz="0.0017804668457026 0.00954535336580347 -0.0211955328218579"
        rpy="0 0 0" />
      <mass
        value="0.0127054359043651" />
      <inertia
        ixx="2.86640705208762E-06"
        ixy="6.96910805591186E-10"
        ixz="2.23054610682619E-09"
        iyy="3.05918813546681E-06"
        iyz="-1.83401993264741E-08"
        izz="9.46072681427814E-07" />
    </inertial>
    <visual>
      <origin
        xyz="0 0 0"
        rpy="0 0 0" />
      <geometry>
        <mesh
          filename="package://rucobot/meshes/proximal_falang_miz_r.STL" />
      </geometry>
      <material
        name="">
        <color
          rgba="0.792156862745098 0.819607843137255 0.933333333333333 1" />
      </material>
    </visual>
    <collision>
      <origin
        xyz="0 0 0"
        rpy="0 0 0" />
      <geometry>
        <mesh
          filename="package://rucobot/meshes/proximal_falang_miz_r.STL" />
      </geometry>
    </collision>
  </link>
  <joint
    name="j_proximal_falang_miz_r"
    type="continuous">
    <origin
      xyz="0.0017857093560632 0.0119999999999997 -0.00997291781738271"
      rpy="1.29554718159783 -1.38777878078145E-15 -3.14159265358979" />
    <parent
      link="sharnir_palec_miz_r" />
    <child
      link="proximal_falang_miz_r" />
    <axis
      xyz="1 0 0" />
  </joint>
  <link
    name="medial_falanga_miz_r">
    <inertial>
      <origin
        xyz="0.0014620783378807 0.0138538536032017 -0.00980234066312013"
        rpy="0 0 0" />
      <mass
        value="0.0079197733635432" />
      <inertia
        ixx="1.05619310913564E-06"
        ixy="-4.45977015135657E-10"
        ixz="3.65308232294126E-10"
        iyy="1.11379933821129E-06"
        iyz="1.76465578701409E-09"
        izz="4.23085363911227E-07" />
    </inertial>
    <visual>
      <origin
        xyz="0 0 0"
        rpy="0 0 0" />
      <geometry>
        <mesh
          filename="package://rucobot/meshes/medial_falanga_miz_r.STL" />
      </geometry>
      <material
        name="">
        <color
          rgba="0.792156862745098 0.819607843137255 0.933333333333333 1" />
      </material>
    </visual>
    <collision>
      <origin
        xyz="0 0 0"
        rpy="0 0 0" />
      <geometry>
        <mesh
          filename="package://rucobot/meshes/medial_falanga_miz_r.STL" />
      </geometry>
    </collision>
  </link>
  <joint
    name="j_medial_falanga_miz_r"
    type="continuous">
    <origin
      xyz="0.000330185890498214 -0.00406886435696347 -0.0458185041235781"
      rpy="0.0243067503049176 -1.11022302462516E-16 -6.66133814775094E-16" />
    <parent
      link="proximal_falang_miz_r" />
    <child
      link="medial_falanga_miz_r" />
    <axis
      xyz="1 0 0" />
  </joint>
  <link
    name="distal_falanga_miz_r">
    <inertial>
      <origin
        xyz="0.00149473888476248 0.000417275985905852 -0.0118731931278153"
        rpy="0 0 0" />
      <mass
        value="0.00792541838669141" />
      <inertia
        ixx="8.03956989890441E-07"
        ixy="7.68326491396889E-10"
        ixz="-4.55852002976494E-10"
        iyy="8.45142989054057E-07"
        iyz="2.03828170726256E-08"
        izz="3.60349172136296E-07" />
    </inertial>
    <visual>
      <origin
        xyz="0 0 0"
        rpy="0 0 0" />
      <geometry>
        <mesh
          filename="package://rucobot/meshes/distal_falanga_miz_r.STL" />
      </geometry>
      <material
        name="">
        <color
          rgba="0.792156862745098 0.819607843137255 0.933333333333333 1" />
      </material>
    </visual>
    <collision>
      <origin
        xyz="0 0 0"
        rpy="0 0 0" />
      <geometry>
        <mesh
          filename="package://rucobot/meshes/distal_falanga_miz_r.STL" />
      </geometry>
    </collision>
  </link>
  <joint
    name="j_distal_falanga_miz_r"
    type="continuous">
    <origin
      xyz="0 0.0137238057516697 -0.0258038888861933"
      rpy="0.258336030853921 6.93889390390723E-17 6.66133814775094E-16" />
    <parent
      link="medial_falanga_miz_r" />
    <child
      link="distal_falanga_miz_r" />
    <axis
      xyz="1 0 0" />
  </joint>
  <link
    name="sharnir_plecha_l">
    <inertial>
      <origin
        xyz="-5.55111512312578E-17 -0.000417919871589012 0.0466532917612667"
        rpy="0 0 0" />
      <mass
        value="0.483647848803235" />
      <inertia
        ixx="0.000689027325543667"
        ixy="2.84603070277445E-19"
        ixz="-2.02610280983229E-18"
        iyy="0.00196973024679346"
        iyz="5.56154264020346E-05"
        izz="0.00183169819086113" />
    </inertial>
    <visual>
      <origin
        xyz="0 0 0"
        rpy="0 0 0" />
      <geometry>
        <mesh
          filename="package://rucobot/meshes/sharnir_plecha_l.STL" />
      </geometry>
      <material
        name="">
        <color
          rgba="1 1 1 1" />
      </material>
    </visual>
    <collision>
      <origin
        xyz="0 0 0"
        rpy="0 0 0" />
      <geometry>
        <mesh
          filename="package://rucobot/meshes/sharnir_plecha_l.STL" />
      </geometry>
    </collision>
  </link>
  <joint
    name="j_sharnir_plecha_l"
    type="continuous">
    <origin
      xyz="0.152389409420877 0.390000000000005 0"
      rpy="1.57079632679489 1.39415035842739 1.57079632679489" />
    <parent
      link="Tors" />
    <child
      link="sharnir_plecha_l" />
    <axis
      xyz="0 0 1" />
  </joint>
  <link
    name="plecho_l">
    <inertial>
      <origin
        xyz="3.12713754890837E-08 -0.0251544593115959 -1.26876072981119E-08"
        rpy="0 0 0" />
      <mass
        value="2.34279529413064" />
      <inertia
        ixx="0.00788166003864894"
        ixy="1.38829821447659E-09"
        ixz="1.10322556970931E-09"
        iyy="0.00430171994078727"
        iyz="4.25673822194517E-09"
        izz="0.00692854700165599" />
    </inertial>
    <visual>
      <origin
        xyz="0 0 0"
        rpy="0 0 0" />
      <geometry>
        <mesh
          filename="package://rucobot/meshes/plecho_l.STL" />
      </geometry>
      <material
        name="">
        <color
          rgba="1 1 1 1" />
      </material>
    </visual>
    <collision>
      <origin
        xyz="0 0 0"
        rpy="0 0 0" />
      <geometry>
        <mesh
          filename="package://rucobot/meshes/plecho_l.STL" />
      </geometry>
    </collision>
  </link>
  <joint
    name="j_plecho_l"
    type="continuous">
    <origin
      xyz="0 -0.0079999999999999 0.0936105905791237"
      rpy="-1.5707963267949 -1.29112786207725 1.5707963267949" />
    <parent
      link="sharnir_plecha_l" />
    <child
      link="plecho_l" />
    <axis
      xyz="0 0 1" />
  </joint>
  <link
    name="lokot_l">
    <inertial>
      <origin
        xyz="1.16413660572467E-07 -0.0978377204551391 -9.69470430600694E-08"
        rpy="0 0 0" />
      <mass
        value="2.01481802912603" />
      <inertia
        ixx="0.00923322727364927"
        ixy="1.14768455442623E-08"
        ixz="1.29485073866462E-08"
        iyy="0.00229149686856388"
        iyz="2.76582576248234E-08"
        izz="0.0091364535158433" />
    </inertial>
    <visual>
      <origin
        xyz="0 0 0"
        rpy="0 0 0" />
      <geometry>
        <mesh
          filename="package://rucobot/meshes/lokot_l.STL" />
      </geometry>
      <material
        name="">
        <color
          rgba="1 1 1 1" />
      </material>
    </visual>
    <collision>
      <origin
        xyz="0 0 0"
        rpy="0 0 0" />
      <geometry>
        <mesh
          filename="package://rucobot/meshes/lokot_l.STL" />
      </geometry>
    </collision>
  </link>
  <joint
    name="j_lokot_l"
    type="continuous">
    <origin
      xyz="0 -0.140951811866513 0"
      rpy="0 -1.44799988602335 2.26598202507204E-16" />
    <parent
      link="plecho_l" />
    <child
      link="lokot_l" />
    <axis
      xyz="0 1 0" />
  </joint>
  <link
    name="sharnir_loktya_l">
    <inertial>
      <origin
        xyz="0.00120000000000009 0.00752035460033462 -0.0437637690424814"
        rpy="0 0 0" />
      <mass
        value="0.413649568915566" />
      <inertia
        ixx="0.00060993563382767"
        ixy="1.81095644122969E-18"
        ixz="-2.23616698075135E-19"
        iyy="0.0012155913352192"
        iyz="5.49949777303546E-05"
        izz="0.00106159012481743" />
    </inertial>
    <visual>
      <origin
        xyz="0 0 0"
        rpy="0 0 0" />
      <geometry>
        <mesh
          filename="package://rucobot/meshes/sharnir_loktya_l.STL" />
      </geometry>
      <material
        name="">
        <color
          rgba="1 1 1 1" />
      </material>
    </visual>
    <collision>
      <origin
        xyz="0 0 0"
        rpy="0 0 0" />
      <geometry>
        <mesh
          filename="package://rucobot/meshes/sharnir_loktya_l.STL" />
      </geometry>
    </collision>
  </link>
  <joint
    name="j_sharnir_loktya_l"
    type="continuous">
    <origin
      xyz="0 -0.161048188133487 0"
      rpy="1.61381909003651 1.57079631189374 -2.09329438379502" />
    <parent
      link="lokot_l" />
    <child
      link="sharnir_loktya_l" />
    <axis
      xyz="1 0 0" />
  </joint>
  <link
    name="predplechie_l">
    <inertial>
      <origin
        xyz="-1.73783355866819E-06 -3.8371408273008E-08 0.0731824158750626"
        rpy="0 0 0" />
      <mass
        value="1.44692799192518" />
      <inertia
        ixx="0.00554237315737386"
        ixy="2.51687730888888E-09"
        ixz="3.43710296420063E-07"
        iyy="0.00555465380712484"
        iyz="-6.69030071598874E-09"
        izz="0.00121510015418095" />
    </inertial>
    <visual>
      <origin
        xyz="0 0 0"
        rpy="0 0 0" />
      <geometry>
        <mesh
          filename="package://rucobot/meshes/predplechie_l.STL" />
      </geometry>
      <material
        name="">
        <color
          rgba="1 1 1 1" />
      </material>
    </visual>
    <collision>
      <origin
        xyz="0 0 0"
        rpy="0 0 0" />
      <geometry>
        <mesh
          filename="package://rucobot/meshes/predplechie_l.STL" />
      </geometry>
    </collision>
  </link>
  <joint
    name="j_predplechie_l"
    type="continuous">
    <origin
      xyz="0.00120000000000009 0.00800000000000012 -0.0954985987662796"
      rpy="3.14159265358979 5.55111512312578E-17 0.330130007135906" />
    <parent
      link="sharnir_loktya_l" />
    <child
      link="predplechie_l" />
    <axis
      xyz="0 0 1" />
  </joint>
  <link
    name="zapastie_l">
    <inertial>
      <origin
        xyz="-5.83575854307128E-10 -0.00589608124374763 -6.12892125939624E-10"
        rpy="0 0 0" />
      <mass
        value="0.0217508253802028" />
      <inertia
        ixx="4.06194785479799E-06"
        ixy="-1.32382247389684E-13"
        ixz="2.77491299847444E-13"
        iyy="3.36484852396572E-06"
        iyz="-3.76039361079172E-14"
        izz="2.22565575230997E-06" />
    </inertial>
    <visual>
      <origin
        xyz="0 0 0"
        rpy="0 0 0" />
      <geometry>
        <mesh
          filename="package://rucobot/meshes/zapastie_l.STL" />
      </geometry>
      <material
        name="">
        <color
          rgba="1 1 1 1" />
      </material>
    </visual>
    <collision>
      <origin
        xyz="0 0 0"
        rpy="0 0 0" />
      <geometry>
        <mesh
          filename="package://rucobot/meshes/zapastie_l.STL" />
      </geometry>
    </collision>
  </link>
  <joint
    name="j_zapastie_l"
    type="continuous">
    <origin
      xyz="0 0 0.19450140123372"
      rpy="-1.57079632679489 -0.197380460017493 1.5707963267949" />
    <parent
      link="predplechie_l" />
    <child
      link="zapastie_l" />
    <axis
      xyz="0 0 -1" />
  </joint>
  <link
    name="ladon_l">
    <inertial>
      <origin
        xyz="0.0443630089880126 0.00488751652788033 -0.0600557871612156"
        rpy="0 0 0" />
      <mass
        value="2.16213302107498" />
      <inertia
        ixx="0.0017822400144451"
        ixy="3.35902708000434E-09"
        ixz="-8.1214384969712E-09"
        iyy="0.00728079827500638"
        iyz="0.000121277233104469"
        izz="0.00607112321869769" />
    </inertial>
    <visual>
      <origin
        xyz="0 0 0"
        rpy="0 0 0" />
      <geometry>
        <mesh
          filename="package://rucobot/meshes/ladon_l.STL" />
      </geometry>
      <material
        name="">
        <color
          rgba="0.792156862745098 0.819607843137255 0.933333333333333 1" />
      </material>
    </visual>
    <collision>
      <origin
        xyz="0 0 0"
        rpy="0 0 0" />
      <geometry>
        <mesh
          filename="package://rucobot/meshes/ladon_l.STL" />
      </geometry>
    </collision>
  </link>
  <joint
    name="j_ladon_l"
    type="continuous">
    <origin
      xyz="0 0 0"
      rpy="3.14159265358979 -1.56665851302964 1.5707963267949" />
    <parent
      link="zapastie_l" />
    <child
      link="ladon_l" />
    <axis
      xyz="0 1 0" />
  </joint>
  <link
    name="bolshoj_osnova_l">
    <inertial>
      <origin
        xyz="1.61109600660403E-09 -0.00335807254700327 -0.0131887628307374"
        rpy="0 0 0" />
      <mass
        value="0.00474130011815392" />
      <inertia
        ixx="3.37852128384203E-07"
        ixy="-3.4573179602801E-14"
        ixz="-3.93265996644487E-14"
        iyy="3.15892906322204E-07"
        iyz="-2.38606198520146E-10"
        izz="1.60033893814992E-07" />
    </inertial>
    <visual>
      <origin
        xyz="0 0 0"
        rpy="0 0 0" />
      <geometry>
        <mesh
          filename="package://rucobot/meshes/bolshoj_osnova_l.STL" />
      </geometry>
      <material
        name="">
        <color
          rgba="1 1 1 1" />
      </material>
    </visual>
    <collision>
      <origin
        xyz="0 0 0"
        rpy="0 0 0" />
      <geometry>
        <mesh
          filename="package://rucobot/meshes/bolshoj_osnova_l.STL" />
      </geometry>
    </collision>
  </link>
  <joint
    name="j_bolshoj_osnova_l"
    type="continuous">
    <origin
      xyz="0.0286062957588674 -0.0191182634575131 -0.0340916557414431"
      rpy="-0.760754668333787 -0.47903314835867 -2.02173849530472" />
    <parent
      link="ladon_l" />
    <child
      link="bolshoj_osnova_l" />
    <axis
      xyz="0 0 -1" />
  </joint>
  <link
    name="proximal_falang_bolshoj_l">
    <inertial>
      <origin
        xyz="0.0491416395045949 0.0112875493880561 -0.0301219393565599"
        rpy="0 0 0" />
      <mass
        value="0.0127054141105419" />
      <inertia
        ixx="2.86639553657946E-06"
        ixy="6.98126486631259E-10"
        ixz="2.22992047749007E-09"
        iyy="3.05918166978879E-06"
        iyz="-1.83345073024409E-08"
        izz="9.4606361163888E-07" />
    </inertial>
    <visual>
      <origin
        xyz="0 0 0"
        rpy="0 0 0" />
      <geometry>
        <mesh
          filename="package://rucobot/meshes/proximal_falang_bolshoj_l.STL" />
      </geometry>
      <material
        name="">
        <color
          rgba="0.792156862745098 0.819607843137255 0.933333333333333 1" />
      </material>
    </visual>
    <collision>
      <origin
        xyz="0 0 0"
        rpy="0 0 0" />
      <geometry>
        <mesh
          filename="package://rucobot/meshes/proximal_falang_bolshoj_l.STL" />
      </geometry>
    </collision>
  </link>
  <joint
    name="j_proximal_falang_bolshoj_l"
    type="continuous">
    <origin
      xyz="0.0491468857628961 -0.013916361167838 -0.00322975923572941"
      rpy="-1.88498781502249 -7.21644966006352E-16 -3.14159265358979" />
    <parent
      link="bolshoj_osnova_l" />
    <child
      link="proximal_falang_bolshoj_l" />
    <axis
      xyz="1 0 0" />
  </joint>
  <link
    name="medial_falanga_bolshoj_l">
    <inertial>
      <origin
        xyz="0.0260751353746376 0.000130044469385804 -0.0119984512619372"
        rpy="0 0 0" />
      <mass
        value="0.0079197719184545" />
      <inertia
        ixx="1.05619353496797E-06"
        ixy="-4.46256697577165E-10"
        ixz="3.6524613616356E-10"
        iyy="1.11379850431128E-06"
        iyz="1.764488280692E-09"
        izz="4.23085016558112E-07" />
    </inertial>
    <visual>
      <origin
        xyz="0 0 0"
        rpy="0 0 0" />
      <geometry>
        <mesh
          filename="package://rucobot/meshes/medial_falanga_bolshoj_l.STL" />
      </geometry>
      <material
        name="">
        <color
          rgba="0.792156862745098 0.819607843137255 0.933333333333333 1" />
      </material>
    </visual>
    <collision>
      <origin
        xyz="0 0 0"
        rpy="0 0 0" />
      <geometry>
        <mesh
          filename="package://rucobot/meshes/medial_falanga_bolshoj_l.STL" />
      </geometry>
    </collision>
  </link>
  <joint
    name="j_medial_falanga_bolshoj_l"
    type="continuous">
    <origin
      xyz="0.0230783039867778 0.0113397541878712 -0.052215815564381"
      rpy="0.726772177041745 1.58206781009085E-15 -1.88737914186277E-15" />
    <parent
      link="proximal_falang_bolshoj_l" />
    <child
      link="medial_falanga_bolshoj_l" />
    <axis
      xyz="1 0 0" />
  </joint>
  <link
    name="distal_falang_bolshoy_l">
    <inertial>
      <origin
        xyz="0.017988632866714 0.000417285260700173 -0.0118731882123958"
        rpy="0 0 0" />
      <mass
        value="0.0079254235962375" />
      <inertia
        ixx="8.03956872494815E-07"
        ixy="7.68434236506511E-10"
        ixz="-4.55985331781098E-10"
        iyy="8.45142243817211E-07"
        iyz="2.03849708329773E-08"
        izz="3.60349435531677E-07" />
    </inertial>
    <visual>
      <origin
        xyz="0 0 0"
        rpy="0 0 0" />
      <geometry>
        <mesh
          filename="package://rucobot/meshes/distal_falang_bolshoy_l.STL" />
      </geometry>
      <material
        name="">
        <color
          rgba="0.792156862745098 0.819607843137255 0.933333333333333 1" />
      </material>
    </visual>
    <collision>
      <origin
        xyz="0 0 0"
        rpy="0 0 0" />
      <geometry>
        <mesh
          filename="package://rucobot/meshes/distal_falang_bolshoy_l.STL" />
      </geometry>
    </collision>
  </link>
  <joint
    name="j_distal_falang_bolshoy_l"
    type="continuous">
    <origin
      xyz="0.00811916417762051 0 -0.028"
      rpy="1.4296124473884 1.16573417585641E-15 3.02535774210355E-15" />
    <parent
      link="medial_falanga_bolshoj_l" />
    <child
      link="distal_falang_bolshoy_l" />
    <axis
      xyz="1 0 0" />
  </joint>
  <link
    name="sharnir_palec_ukaz_l">
    <inertial>
      <origin
        xyz="-0.000193152490879867 0.0028827523153877 0.000976444726679987"
        rpy="0 0 0" />
      <mass
        value="0.00247996470734577" />
      <inertia
        ixx="1.41865516092847E-07"
        ixy="-9.26897787292178E-10"
        ixz="3.83362224786016E-10"
        iyy="9.22616396062871E-08"
        iyz="2.59316175616658E-09"
        izz="1.17684693351073E-07" />
    </inertial>
    <visual>
      <origin
        xyz="0 0 0"
        rpy="0 0 0" />
      <geometry>
        <mesh
          filename="package://rucobot/meshes/sharnir_palec_ukaz_l.STL" />
      </geometry>
      <material
        name="">
        <color
          rgba="0.792156862745098 0.819607843137255 0.933333333333333 1" />
      </material>
    </visual>
    <collision>
      <origin
        xyz="0 0 0"
        rpy="0 0 0" />
      <geometry>
        <mesh
          filename="package://rucobot/meshes/sharnir_palec_ukaz_l.STL" />
      </geometry>
    </collision>
  </link>
  <joint
    name="j_sharnir_palec_ukaz_l"
    type="continuous">
    <origin
      xyz="0.0343629827592736 0 -0.108499957196304"
      rpy="-3.28829517466932E-15 -0.332097661851732 1.6147878089894E-15" />
    <parent
      link="ladon_l" />
    <child
      link="sharnir_palec_ukaz_l" />
    <axis
      xyz="0 1 0" />
  </joint>
  <link
    name="proximal_falang_ukaz_l">
    <inertial>
      <origin
        xyz="-5.20829184486038E-06 -0.000932800419152696 -0.0221103816501311"
        rpy="0 0 0" />
      <mass
        value="0.0127053735702975" />
      <inertia
        ixx="2.86640015420788E-06"
        ixy="6.94855367646972E-10"
        ixz="2.22606417933835E-09"
        iyy="3.0591807233627E-06"
        iyz="-1.83389309099983E-08"
        izz="9.46064831513841E-07" />
    </inertial>
    <visual>
      <origin
        xyz="0 0 0"
        rpy="0 0 0" />
      <geometry>
        <mesh
          filename="package://rucobot/meshes/proximal_falang_ukaz_l.STL" />
      </geometry>
      <material
        name="">
        <color
          rgba="0.792156862745098 0.819607843137255 0.933333333333333 1" />
      </material>
    </visual>
    <collision>
      <origin
        xyz="0 0 0"
        rpy="0 0 0" />
      <geometry>
        <mesh
          filename="package://rucobot/meshes/proximal_falang_ukaz_l.STL" />
      </geometry>
    </collision>
  </link>
  <joint
    name="j_proximal_falang_ukaz_l"
    type="continuous">
    <origin
      xyz="0 0 0"
      rpy="1.11484688989119 -7.49400541621981E-16 -3.14159265358979" />
    <parent
      link="sharnir_palec_ukaz_l" />
    <child
      link="proximal_falang_ukaz_l" />
    <axis
      xyz="1 0 0" />
  </joint>
  <link
    name="medial_falanga_ukaz_l">
    <inertial>
      <origin
        xyz="6.55491822970644E-06 -0.0188559430205998 0.000817533355310984"
        rpy="0 0 0" />
      <mass
        value="0.00791977353096028" />
      <inertia
        ixx="1.05619335781221E-06"
        ixy="-4.46055356463278E-10"
        ixz="3.65296151938779E-10"
        iyy="1.11379913458607E-06"
        iyz="1.76454934700515E-09"
        izz="4.23085334076314E-07" />
    </inertial>
    <visual>
      <origin
        xyz="0 0 0"
        rpy="0 0 0" />
      <geometry>
        <mesh
          filename="package://rucobot/meshes/medial_falanga_ukaz_l.STL" />
      </geometry>
      <material
        name="">
        <color
          rgba="0.792156862745098 0.819607843137255 0.933333333333333 1" />
      </material>
    </visual>
    <collision>
      <origin
        xyz="0 0 0"
        rpy="0 0 0" />
      <geometry>
        <mesh
          filename="package://rucobot/meshes/medial_falanga_ukaz_l.STL" />
      </geometry>
    </collision>
  </link>
  <joint
    name="j_medial_falanga_ukaz_l"
    type="continuous">
    <origin
      xyz="0 0.0220157478887349 -0.0448921690821424"
      rpy="0.563732607541172 -1.21777588013572E-15 1.2490009027033E-15" />
    <parent
      link="proximal_falang_ukaz_l" />
    <child
      link="medial_falanga_ukaz_l" />
    <axis
      xyz="1 0 0" />
  </joint>
  <link
    name="distal_falanga_ukaz_l">
    <inertial>
      <origin
        xyz="3.92154856411198E-05 0.000417280955288313 -0.0118731910933805"
        rpy="0 0 0" />
      <mass
        value="0.00792541925435562" />
      <inertia
        ixx="8.03956890961279E-07"
        ixy="7.68321516321629E-10"
        ixz="-4.5579356065472E-10"
        iyy="8.45142901709851E-07"
        iyz="2.03836949910472E-08"
        izz="3.60349031111827E-07" />
    </inertial>
    <visual>
      <origin
        xyz="0 0 0"
        rpy="0 0 0" />
      <geometry>
        <mesh
          filename="package://rucobot/meshes/distal_falanga_ukaz_l.STL" />
      </geometry>
      <material
        name="">
        <color
          rgba="0.792156862745098 0.819607843137255 0.933333333333333 1" />
      </material>
    </visual>
    <collision>
      <origin
        xyz="0 0 0"
        rpy="0 0 0" />
      <geometry>
        <mesh
          filename="package://rucobot/meshes/distal_falanga_ukaz_l.STL" />
      </geometry>
    </collision>
  </link>
  <joint
    name="j_distal_falanga_ukaz_l"
    type="continuous">
    <origin
      xyz="0 -0.0189859889132917 -0.0151840143881235"
      rpy="-0.11049370520446 2.63677968348475E-16 -6.93889390390723E-17" />
    <parent
      link="medial_falanga_ukaz_l" />
    <child
      link="distal_falanga_ukaz_l" />
    <axis
      xyz="1 0 0" />
  </joint>
  <link
    name="sharnir_palec_sred_l">
    <inertial>
      <origin
        xyz="-0.00019315264391101 0.00288275232220514 0.000976444925202241"
        rpy="0 0 0" />
      <mass
        value="0.0024799645866329" />
      <inertia
        ixx="1.41865512237387E-07"
        ixy="-9.26899978783815E-10"
        ixz="3.83359628619355E-10"
        iyy="9.22616398315029E-08"
        iyz="2.59316164784045E-09"
        izz="1.17684683913389E-07" />
    </inertial>
    <visual>
      <origin
        xyz="0 0 0"
        rpy="0 0 0" />
      <geometry>
        <mesh
          filename="package://rucobot/meshes/sharnir_palec_sred_l.STL" />
      </geometry>
      <material
        name="">
        <color
          rgba="0.792156862745098 0.819607843137255 0.933333333333333 1" />
      </material>
    </visual>
    <collision>
      <origin
        xyz="0 0 0"
        rpy="0 0 0" />
      <geometry>
        <mesh
          filename="package://rucobot/meshes/sharnir_palec_sred_l.STL" />
      </geometry>
    </collision>
  </link>
  <joint
    name="j_sharnir_palec_sred_l"
    type="continuous">
    <origin
      xyz="0.0103629827592736 0 -0.108499957196304"
      rpy="-3.24852540828036E-15 -0.294546077137939 1.4647369028407E-15" />
    <parent
      link="ladon_l" />
    <child
      link="sharnir_palec_sred_l" />
    <axis
      xyz="0 1 0" />
  </joint>
  <link
    name="proximal_falang_sred_l">
    <inertial>
      <origin
        xyz="-5.19896908462991E-06 -0.000301615700045943 -0.02192176610875"
        rpy="0 0 0" />
      <mass
        value="0.012705351647472" />
      <inertia
        ixx="2.86638769136229E-06"
        ixy="6.93852163313867E-10"
        ixz="2.22419270264239E-09"
        iyy="3.05917301102273E-06"
        iyz="-1.83331095909247E-08"
        izz="9.46058851768309E-07" />
    </inertial>
    <visual>
      <origin
        xyz="0 0 0"
        rpy="0 0 0" />
      <geometry>
        <mesh
          filename="package://rucobot/meshes/proximal_falang_sred_l.STL" />
      </geometry>
      <material
        name="">
        <color
          rgba="0.792156862745098 0.819607843137255 0.933333333333333 1" />
      </material>
    </visual>
    <collision>
      <origin
        xyz="0 0 0"
        rpy="0 0 0" />
      <geometry>
        <mesh
          filename="package://rucobot/meshes/proximal_falang_sred_l.STL" />
      </geometry>
    </collision>
  </link>
  <joint
    name="j_proximal_falang_sred_l"
    type="continuous">
    <origin
      xyz="0 0 0"
      rpy="1.44576702971441 1.49880108324396E-15 -3.14159265358979" />
    <parent
      link="sharnir_palec_sred_l" />
    <child
      link="proximal_falang_sred_l" />
    <axis
      xyz="1 0 0" />
  </joint>
  <link
    name="medial_falanga_sred_l">
    <inertial>
      <origin
        xyz="6.55421300266301E-06 -0.00720218768868919 -0.00757327582143208"
        rpy="0 0 0" />
      <mass
        value="0.00791977571324533" />
      <inertia
        ixx="1.05619339611458E-06"
        ixy="-4.46029235436926E-10"
        ixz="3.65274782658476E-10"
        iyy="1.1137995756936E-06"
        iyz="1.76452058049392E-09"
        izz="4.23085633995589E-07" />
    </inertial>
    <visual>
      <origin
        xyz="0 0 0"
        rpy="0 0 0" />
      <geometry>
        <mesh
          filename="package://rucobot/meshes/medial_falanga_sred_l.STL" />
      </geometry>
      <material
        name="">
        <color
          rgba="0.792156862745098 0.819607843137255 0.933333333333333 1" />
      </material>
    </visual>
    <collision>
      <origin
        xyz="0 0 0"
        rpy="0 0 0" />
      <geometry>
        <mesh
          filename="package://rucobot/meshes/medial_falanga_sred_l.STL" />
      </geometry>
    </collision>
  </link>
  <joint
    name="j_medial_falanga_sred_l"
    type="continuous">
    <origin
      xyz="0 0.00623519009133176 -0.049609700709891"
      rpy="-0.168799089471799 -2.08166817117217E-16 -2.4008572907519E-15" />
    <parent
      link="proximal_falang_sred_l" />
    <child
      link="medial_falanga_sred_l" />
    <axis
      xyz="1 0 0" />
  </joint>
  <link
    name="distal_falanga_sred_l">
    <inertial>
      <origin
        xyz="3.92154984800164E-05 0.000417280307577456 -0.0118731914916414"
        rpy="0 0 0" />
      <mass
        value="0.00792541876182252" />
      <inertia
        ixx="8.03956899308065E-07"
        ixy="7.68317470456471E-10"
        ixz="-4.55789550751951E-10"
        iyy="8.45142971716973E-07"
        iyz="2.0383519096941E-08"
        izz="3.60349002769039E-07" />
    </inertial>
    <visual>
      <origin
        xyz="0 0 0"
        rpy="0 0 0" />
      <geometry>
        <mesh
          filename="package://rucobot/meshes/distal_falanga_sred_l.STL" />
      </geometry>
      <material
        name="">
        <color
          rgba="0.792156862745098 0.819607843137255 0.933333333333333 1" />
      </material>
    </visual>
    <collision>
      <origin
        xyz="0 0 0"
        rpy="0 0 0" />
      <geometry>
        <mesh
          filename="package://rucobot/meshes/distal_falanga_sred_l.STL" />
      </geometry>
    </collision>
  </link>
  <joint
    name="j_distal_falanga_sred_l"
    type="continuous">
    <origin
      xyz="0 -0.00733223282733369 -0.0235748222811509"
      rpy="0.352337356784202 -8.43075609324728E-16 3.60822483003176E-15" />
    <parent
      link="medial_falanga_sred_l" />
    <child
      link="distal_falanga_sred_l" />
    <axis
      xyz="1 0 0" />
  </joint>
  <link
    name="sharnir_palec_bezim_l">
    <inertial>
      <origin
        xyz="-0.000193153252624867 0.00288275214888389 0.000976445084956368"
        rpy="0 0 0" />
      <mass
        value="0.00247996421674552" />
      <inertia
        ixx="1.41865499188479E-07"
        ixy="-9.26906598066539E-10"
        ixz="3.83353475107097E-10"
        iyy="9.22616458646876E-08"
        iyz="2.59316013016759E-09"
        izz="1.17684658819667E-07" />
    </inertial>
    <visual>
      <origin
        xyz="0 0 0"
        rpy="0 0 0" />
      <geometry>
        <mesh
          filename="package://rucobot/meshes/sharnir_palec_bezim_l.STL" />
      </geometry>
      <material
        name="">
        <color
          rgba="0.792156862745098 0.819607843137255 0.933333333333333 1" />
      </material>
    </visual>
    <collision>
      <origin
        xyz="0 0 0"
        rpy="0 0 0" />
      <geometry>
        <mesh
          filename="package://rucobot/meshes/sharnir_palec_bezim_l.STL" />
      </geometry>
    </collision>
  </link>
  <joint
    name="j_sharnir_palec_bezim_l"
    type="continuous">
    <origin
      xyz="-0.0136370172407264 0 -0.104499957196304"
      rpy="-3.15848565820102E-15 -0.17792208122188 1.07162906260392E-15" />
    <parent
      link="ladon_l" />
    <child
      link="sharnir_palec_bezim_l" />
    <axis
      xyz="0 1 0" />
  </joint>
  <link
    name="proximal_falang_bezim_l">
    <inertial>
      <origin
        xyz="-5.20126007613753E-06 -0.000231192200727648 -0.0219141722335413"
        rpy="0 0 0" />
      <mass
        value="0.0127053660856527" />
      <inertia
        ixx="2.86638958627664E-06"
        ixy="6.93864423114979E-10"
        ixz="2.22459262514755E-09"
        iyy="3.05917459718118E-06"
        iyz="-1.83336509681036E-08"
        izz="9.46060799488356E-07" />
    </inertial>
    <visual>
      <origin
        xyz="0 0 0"
        rpy="0 0 0" />
      <geometry>
        <mesh
          filename="package://rucobot/meshes/proximal_falang_bezim_l.STL" />
      </geometry>
      <material
        name="">
        <color
          rgba="0.792156862745098 0.819607843137255 0.933333333333333 1" />
      </material>
    </visual>
    <collision>
      <origin
        xyz="0 0 0"
        rpy="0 0 0" />
      <geometry>
        <mesh
          filename="package://rucobot/meshes/proximal_falang_bezim_l.STL" />
      </geometry>
    </collision>
  </link>
  <joint
    name="j_proximal_falang_bezim_l"
    type="continuous">
    <origin
      xyz="0 0 0"
      rpy="1.48118139737993 3.12944115066216E-15 3.14159265358979" />
    <parent
      link="sharnir_palec_bezim_l" />
    <child
      link="proximal_falang_bezim_l" />
    <axis
      xyz="1 0 0" />
  </joint>
  <link
    name="medial_falanga_bezim_l">
    <inertial>
      <origin
        xyz="6.55387797865448E-06 -0.0040883271557885 -0.00588271547003388"
        rpy="0 0 0" />
      <mass
        value="0.0079197748552498" />
      <inertia
        ixx="1.05619346375083E-06"
        ixy="-4.46060819979246E-10"
        ixz="3.65257385324779E-10"
        iyy="1.11379927470029E-06"
        iyz="1.76449943631151E-09"
        izz="4.23085476503934E-07" />
    </inertial>
    <visual>
      <origin
        xyz="0 0 0"
        rpy="0 0 0" />
      <geometry>
        <mesh
          filename="package://rucobot/meshes/medial_falanga_bezim_l.STL" />
      </geometry>
      <material
        name="">
        <color
          rgba="0.792156862745098 0.819607843137255 0.933333333333333 1" />
      </material>
    </visual>
    <collision>
      <origin
        xyz="0 0 0"
        rpy="0 0 0" />
      <geometry>
        <mesh
          filename="package://rucobot/meshes/medial_falanga_bezim_l.STL" />
      </geometry>
    </collision>
  </link>
  <joint
    name="j_medial_falanga_bezim_l"
    type="continuous">
    <origin
      xyz="0 0.00447475152211757 -0.0497993634378524"
      rpy="0.0730953468556514 1.78676518025611E-16 8.08381139805192E-16" />
    <parent
      link="proximal_falang_bezim_l" />
    <child
      link="medial_falanga_bezim_l" />
    <axis
      xyz="1 0 0" />
  </joint>
  <link
    name="distal_falanga_bezim_l">
    <inertial>
      <origin
        xyz="3.92159931133507E-05 0.000417278851463115 -0.0118731923164631"
        rpy="0 0 0" />
      <mass
        value="0.00792541830844086" />
      <inertia
        ixx="8.03956936981391E-07"
        ixy="7.6833715815205E-10"
        ixz="-4.55771927606924E-10"
        iyy="8.45143114899438E-07"
        iyz="2.03832031954561E-08"
        izz="3.60349008995556E-07" />
    </inertial>
    <visual>
      <origin
        xyz="0 0 0"
        rpy="0 0 0" />
      <geometry>
        <mesh
          filename="package://rucobot/meshes/distal_falanga_bezim_l.STL" />
      </geometry>
      <material
        name="">
        <color
          rgba="0.792156862745098 0.819607843137255 0.933333333333333 1" />
      </material>
    </visual>
    <collision>
      <origin
        xyz="0 0 0"
        rpy="0 0 0" />
      <geometry>
        <mesh
          filename="package://rucobot/meshes/distal_falanga_bezim_l.STL" />
      </geometry>
    </collision>
  </link>
  <joint
    name="j_distal_falanga_bezim_l"
    type="continuous">
    <origin
      xyz="0 -0.00421837181291146 -0.0218842624717602"
      rpy="0.0254511163823667 5.60315682740509E-15 -1.00613961606655E-16" />
    <parent
      link="medial_falanga_bezim_l" />
    <child
      link="distal_falanga_bezim_l" />
    <axis
      xyz="1 0 0" />
  </joint>
  <link
    name="sharnir_palec_miz_l">
    <inertial>
      <origin
        xyz="-0.000193153529855439 0.0028827515356693 0.000976444472905763"
        rpy="0 0 0" />
      <mass
        value="0.0024799641227465" />
      <inertia
        ixx="1.41865494775344E-07"
        ixy="-9.26908825875705E-10"
        ixz="3.83351044307603E-10"
        iyy="9.22616545714045E-08"
        iyz="2.59315975534212E-09"
        izz="1.17684660271307E-07" />
    </inertial>
    <visual>
      <origin
        xyz="0 0 0"
        rpy="0 0 0" />
      <geometry>
        <mesh
          filename="package://rucobot/meshes/sharnir_palec_miz_l.STL" />
      </geometry>
      <material
        name="">
        <color
          rgba="0.792156862745098 0.819607843137255 0.933333333333333 1" />
      </material>
    </visual>
    <collision>
      <origin
        xyz="0 0 0"
        rpy="0 0 0" />
      <geometry>
        <mesh
          filename="package://rucobot/meshes/sharnir_palec_miz_l.STL" />
      </geometry>
    </collision>
  </link>
  <joint
    name="j_sharnir_palec_miz_l"
    type="continuous">
    <origin
      xyz="-0.0376370172407265 0 -0.0984999571963043"
      rpy="-3.13426648924073E-15 -0.128002864932594 9.58469886218704E-16" />
    <parent
      link="ladon_l" />
    <child
      link="sharnir_palec_miz_l" />
    <axis
      xyz="0 1 0" />
  </joint>
  <link
    name="proximal_falang_miz_l">
    <inertial>
      <origin
        xyz="-5.21017766191845E-06 0.000121080198921486 -0.0219136529843224"
        rpy="0 0 0" />
      <mass
        value="0.0127054066026706" />
      <inertia
        ixx="2.86639328245821E-06"
        ixy="6.92714176883892E-10"
        ixz="2.22541648677267E-09"
        iyy="3.05917897262995E-06"
        iyz="-1.83328839008019E-08"
        izz="9.46064392803008E-07" />
    </inertial>
    <visual>
      <origin
        xyz="0 0 0"
        rpy="0 0 0" />
      <geometry>
        <mesh
          filename="package://rucobot/meshes/proximal_falang_miz_l.STL" />
      </geometry>
      <material
        name="">
        <color
          rgba="0.792156862745098 0.819607843137255 0.933333333333333 1" />
      </material>
    </visual>
    <collision>
      <origin
        xyz="0 0 0"
        rpy="0 0 0" />
      <geometry>
        <mesh
          filename="package://rucobot/meshes/proximal_falang_miz_l.STL" />
      </geometry>
    </collision>
  </link>
  <joint
    name="j_proximal_falang_miz_l"
    type="continuous">
    <origin
      xyz="0 0 0"
      rpy="1.65754717564615 2.40779618465581E-15 -3.14159265358979" />
    <parent
      link="sharnir_palec_miz_l" />
    <child
      link="proximal_falang_miz_l" />
    <axis
      xyz="1 0 0" />
  </joint>
  <link
    name="medial_falanga_miz_l">
    <inertial>
      <origin
        xyz="6.55394070286919E-06 0.00455425902413534 -0.00613189197253794"
        rpy="0 0 0" />
      <mass
        value="0.00791977449147094" />
      <inertia
        ixx="1.05619349793446E-06"
        ixy="-4.46071086193053E-10"
        ixz="3.65259713354964E-10"
        iyy="1.11379916519959E-06"
        iyz="1.7644853436558E-09"
        izz="4.23085418363449E-07" />
    </inertial>
    <visual>
      <origin
        xyz="0 0 0"
        rpy="0 0 0" />
      <geometry>
        <mesh
          filename="package://rucobot/meshes/medial_falanga_miz_l.STL" />
      </geometry>
      <material
        name="">
        <color
          rgba="0.792156862745098 0.819607843137255 0.933333333333333 1" />
      </material>
    </visual>
    <collision>
      <origin
        xyz="0 0 0"
        rpy="0 0 0" />
      <geometry>
        <mesh
          filename="package://rucobot/meshes/medial_falanga_miz_l.STL" />
      </geometry>
    </collision>
  </link>
  <joint
    name="j_medial_falanga_miz_l"
    type="continuous">
    <origin
      xyz="0 -0.00433210397512132 -0.0498119752183021"
      rpy="-0.0139100620699392 9.43689570931383E-16 1.98452365651747E-15" />
    <parent
      link="proximal_falang_miz_l" />
    <child
      link="medial_falanga_miz_l" />
    <axis
      xyz="1 0 0" />
  </joint>
  <link
    name="distal_falanga_miz_l">
    <inertial>
      <origin
        xyz="3.92154746994278E-05 0.000417278921219788 -0.0118731922589785"
        rpy="0 0 0" />
      <mass
        value="0.00792541703381468" />
      <inertia
        ixx="8.03956886645921E-07"
        ixy="7.68301872152557E-10"
        ixz="-4.55796432331895E-10"
        iyy="8.45143157553504E-07"
        iyz="2.03830525171032E-08"
        izz="3.60348889369711E-07" />
    </inertial>
    <visual>
      <origin
        xyz="0 0 0"
        rpy="0 0 0" />
      <geometry>
        <mesh
          filename="package://rucobot/meshes/distal_falanga_miz_l.STL" />
      </geometry>
      <material
        name="">
        <color
          rgba="0.792156862745098 0.819607843137255 0.933333333333333 1" />
      </material>
    </visual>
    <collision>
      <origin
        xyz="0 0 0"
        rpy="0 0 0" />
      <geometry>
        <mesh
          filename="package://rucobot/meshes/distal_falanga_miz_l.STL" />
      </geometry>
    </collision>
  </link>
  <joint
    name="j_distal_falanga_miz_l"
    type="continuous">
    <origin
      xyz="0 0.00442421455290229 -0.0221334391077272"
      rpy="0.0344454016102748 8.04911692853238E-16 -1.86656246015104E-15" />
    <parent
      link="medial_falanga_miz_l" />
    <child
      link="distal_falanga_miz_l" />
    <axis
      xyz="1 0 0" />
  </joint>
  <link
    name="sheya">
    <inertial>
      <origin
        xyz="-1.38777878078145E-17 0.0357066801932042 5.55111512312578E-17"
        rpy="0 0 0" />
      <mass
        value="0.218347766858865" />
      <inertia
        ixx="0.000196825313899626"
        ixy="3.34578014165449E-20"
        ixz="-2.03287907341032E-20"
        iyy="6.60281296822225E-05"
        iyz="-2.3039296165317E-19"
        izz="0.000186054357293215" />
    </inertial>
    <visual>
      <origin
        xyz="0 0 0"
        rpy="0 0 0" />
      <geometry>
        <mesh
          filename="package://rucobot/meshes/sheya.STL" />
      </geometry>
      <material
        name="">
        <color
          rgba="1 1 1 1" />
      </material>
    </visual>
    <collision>
      <origin
        xyz="0 0 0"
        rpy="0 0 0" />
      <geometry>
        <mesh
          filename="package://rucobot/meshes/sheya.STL" />
      </geometry>
    </collision>
  </link>
  <joint
    name="j_sheja"
    type="continuous">
    <origin
      xyz="0 0.462945617536895 0"
      rpy="-3.38231325827026E-15 -0.174973769705534 7.1874156738243E-16" />
    <parent
      link="Tors" />
    <child
      link="sheya" />
    <axis
      xyz="0 1 0" />
  </joint>
  <link
    name="golova">
    <inertial>
      <origin
        xyz="-5.66003578992974E-05 0.0751250583774465 0.02507701782034"
        rpy="0 0 0" />
      <mass
        value="34.4110690927022" />
      <inertia
        ixx="0.161643856121155"
        ixy="-3.54234548112858E-05"
        ixz="0.000114755539493507"
        iyy="0.19009054518769"
        iyz="0.0205623457593875"
        izz="0.146685003424678" />
    </inertial>
    <visual>
      <origin
        xyz="0 0 0"
        rpy="0 0 0" />
      <geometry>
        <mesh
          filename="package://rucobot/meshes/golova.STL" />
      </geometry>
      <material
        name="">
        <color
          rgba="0.792156862745098 0.819607843137255 0.933333333333333 1" />
      </material>
    </visual>
    <collision>
      <origin
        xyz="0 0 0"
        rpy="0 0 0" />
      <geometry>
        <mesh
          filename="package://rucobot/meshes/golova.STL" />
      </geometry>
    </collision>
  </link>
  <joint
    name="j_golova"
    type="continuous">
    <origin
      xyz="0 0.0670543824631131 0"
      rpy="0.263818171846765 -7.7715611723761E-16 -2.77555756156289E-17" />
    <parent
      link="sheya" />
    <child
      link="golova" />
    <axis
      xyz="1 0 0" />
  </joint>
  <link
    name="shassi_r">
    <inertial>
      <origin
        xyz="-1.72516190222183E-09 -2.98748831922824E-09 0.0391397938943969"
        rpy="0 0 0" />
      <mass
        value="5.40678275175521" />
      <inertia
        ixx="0.0213815517772206"
        ixy="1.53213127919178E-09"
        ixz="9.56122942901176E-08"
        iyy="0.165947984257785"
        iyz="1.52684161048681E-07"
        izz="0.164984132423958" />
    </inertial>
    <visual>
      <origin
        xyz="0 0 0"
        rpy="0 0 0" />
      <geometry>
        <mesh
          filename="package://rucobot/meshes/shassi_r.STL" />
      </geometry>
      <material
        name="">
        <color
          rgba="1 1 1 1" />
      </material>
    </visual>
    <collision>
      <origin
        xyz="0 0 0"
        rpy="0 0 0" />
      <geometry>
        <mesh
          filename="package://rucobot/meshes/shassi_r.STL" />
      </geometry>
    </collision>
  </link>
  <joint
    name="j_shassi_r"
    type="continuous">
    <origin
      xyz="-0.190978691828847 0.0257000413894612 -0.0262230889938952"
      rpy="-1.48994964702924 -0.00319317350040304 1.61018644085026" />
    <parent
      link="base_link" />
    <child
      link="shassi_r" />
    <axis
      xyz="0 0 -1" />
  </joint>
  <link
    name="shassi_l">
    <inertial>
      <origin
        xyz="-1.3000405314767E-08 -2.22754016621085E-09 0.0393520017268161"
        rpy="0 0 0" />
      <mass
        value="5.40678275176403" />
      <inertia
        ixx="0.0213815504847618"
        ixy="-7.83263035776945E-09"
        ixz="1.59062855534806E-07"
        iyy="0.165947996310804"
        iyz="-5.72835684548686E-09"
        izz="0.164984145747224" />
    </inertial>
    <visual>
      <origin
        xyz="0 0 0"
        rpy="0 0 0" />
      <geometry>
        <mesh
          filename="package://rucobot/meshes/shassi_l.STL" />
      </geometry>
      <material
        name="">
        <color
          rgba="1 1 1 1" />
      </material>
    </visual>
    <collision>
      <origin
        xyz="0 0 0"
        rpy="0 0 0" />
      <geometry>
        <mesh
          filename="package://rucobot/meshes/shassi_l.STL" />
      </geometry>
    </collision>
  </link>
  <joint
    name="j_shassi_l"
    type="continuous">
    <origin
      xyz="0.181439187491373 0.0404737188099368 -0.0564211869800962"
      rpy="-1.65164300656056 0.00319317350040292 -1.53140621273954" />
    <parent
      link="base_link" />
    <child
      link="shassi_l" />
    <axis
      xyz="0 0 1" />
  </joint>
</robot>
